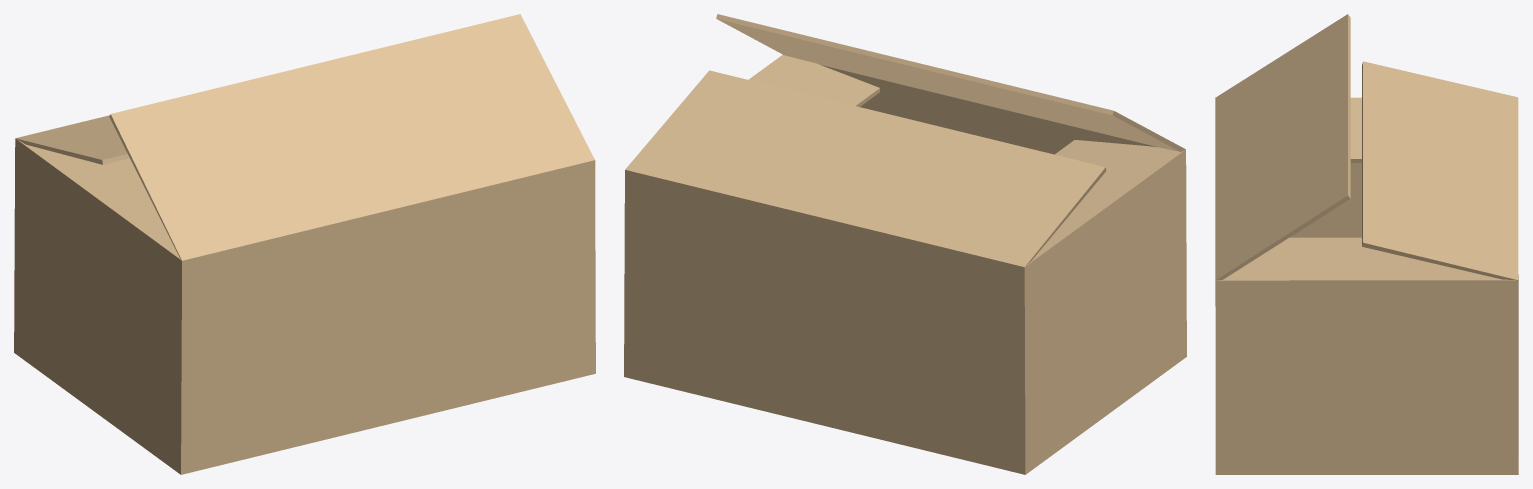
File: SM_carton_02.fbx
3 renders of one model, left to right at view 1: azimuth 30°, elevation 25°; view 2: azimuth 150°, elevation 25°; view 3: azimuth 270°, elevation 25°, orthographic. The views are drawn at different scales.
Parts seen in each view (by area): view 1: Box067; view 2: Box067; view 3: Box067.
Boxes of the visible parts, x1,y1,x2,y2 form: Box067: (14, 14, 595, 474); Box067: (624, 14, 1186, 474); Box067: (1215, 14, 1518, 474).
Bounding box in the file's own units: 34.39 × 23.98 × 24.31.
